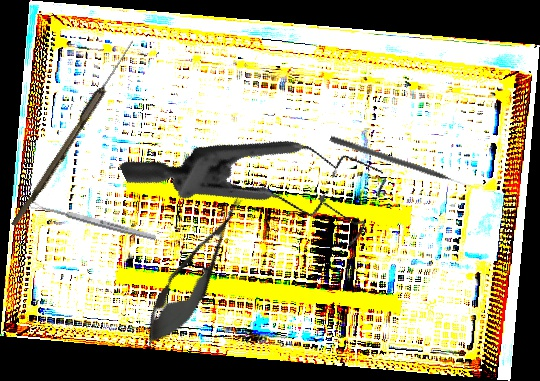Micro Scissor: (132, 186, 258, 358)
Pusher: (328, 135, 472, 191)
Speculum: (118, 65, 406, 320)
Surgical Spoon: (11, 37, 137, 230), (29, 200, 157, 242)
